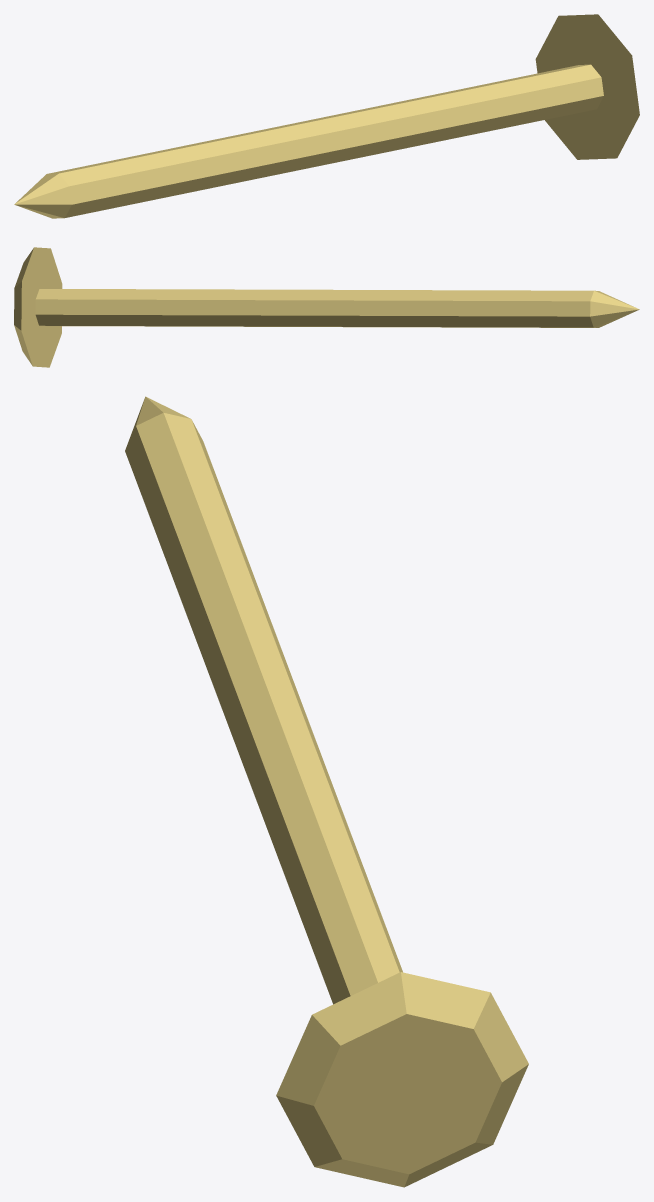
3 renders of one model, top to bottom at view 1: azimuth 30°, elevation 25°; view 2: azimuth 150°, elevation 25°; view 3: azimuth 270°, elevation 25°, orthographic. The views are drawn at different scales.
Parts seen in each view (by area): view 1: Circle.005; view 2: Circle.005; view 3: Circle.005.
Part boxes in pixels (box(x1,y1,x2,y2)): Circle.005: box(14, 14, 639, 218); Circle.005: box(14, 247, 639, 367); Circle.005: box(125, 396, 528, 1187).
Bounding box in the file's own units: 0.5 × 0.13 × 0.1576.
